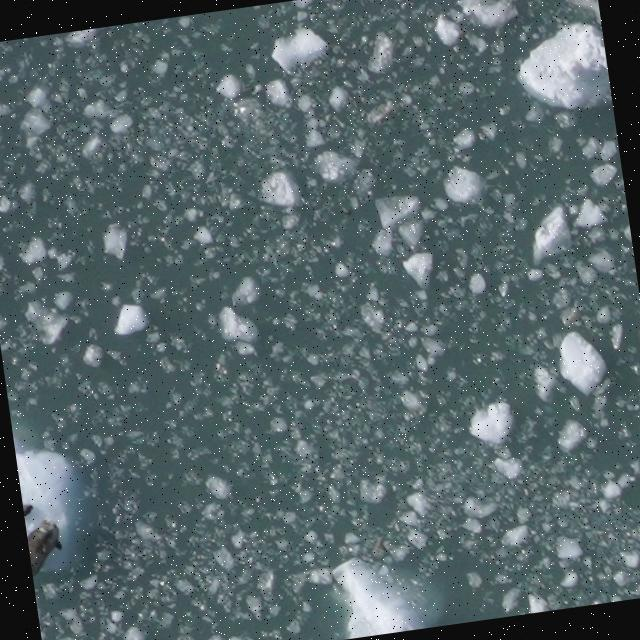seal: (25, 513, 70, 580)
